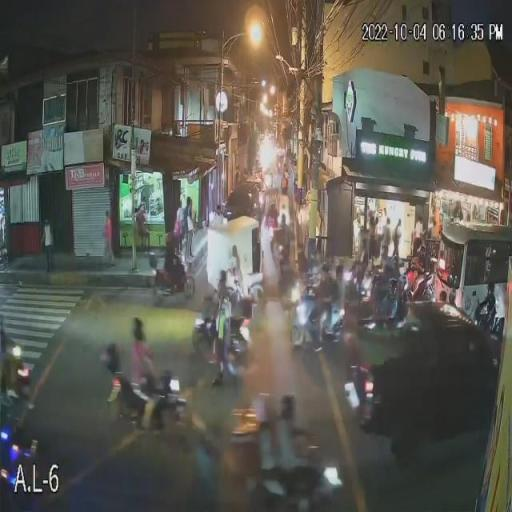helmet: (101, 343, 120, 362), (279, 395, 295, 411), (131, 317, 145, 333), (162, 231, 176, 245), (216, 268, 226, 281)
motorcycle: (101, 357, 189, 436), (256, 449, 344, 511), (0, 352, 46, 466), (193, 295, 253, 377), (288, 270, 340, 352), (342, 346, 378, 428), (370, 261, 406, 333), (402, 256, 440, 306), (151, 262, 195, 304)
rider: (259, 394, 307, 506), (130, 318, 162, 430), (0, 337, 30, 402), (214, 269, 241, 340), (378, 254, 403, 318), (306, 259, 327, 331), (324, 250, 345, 320), (160, 234, 186, 290), (344, 254, 366, 320), (476, 280, 498, 334), (226, 245, 246, 292), (272, 226, 291, 272)
